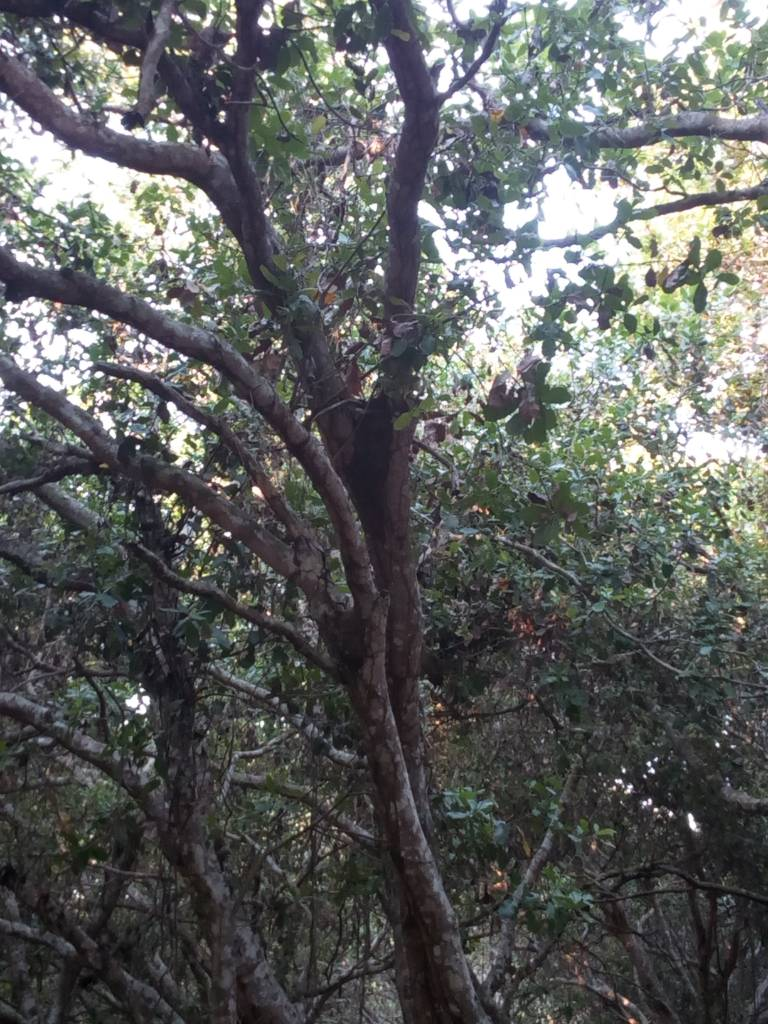Termites: (354, 402, 400, 541), (322, 607, 377, 685)
